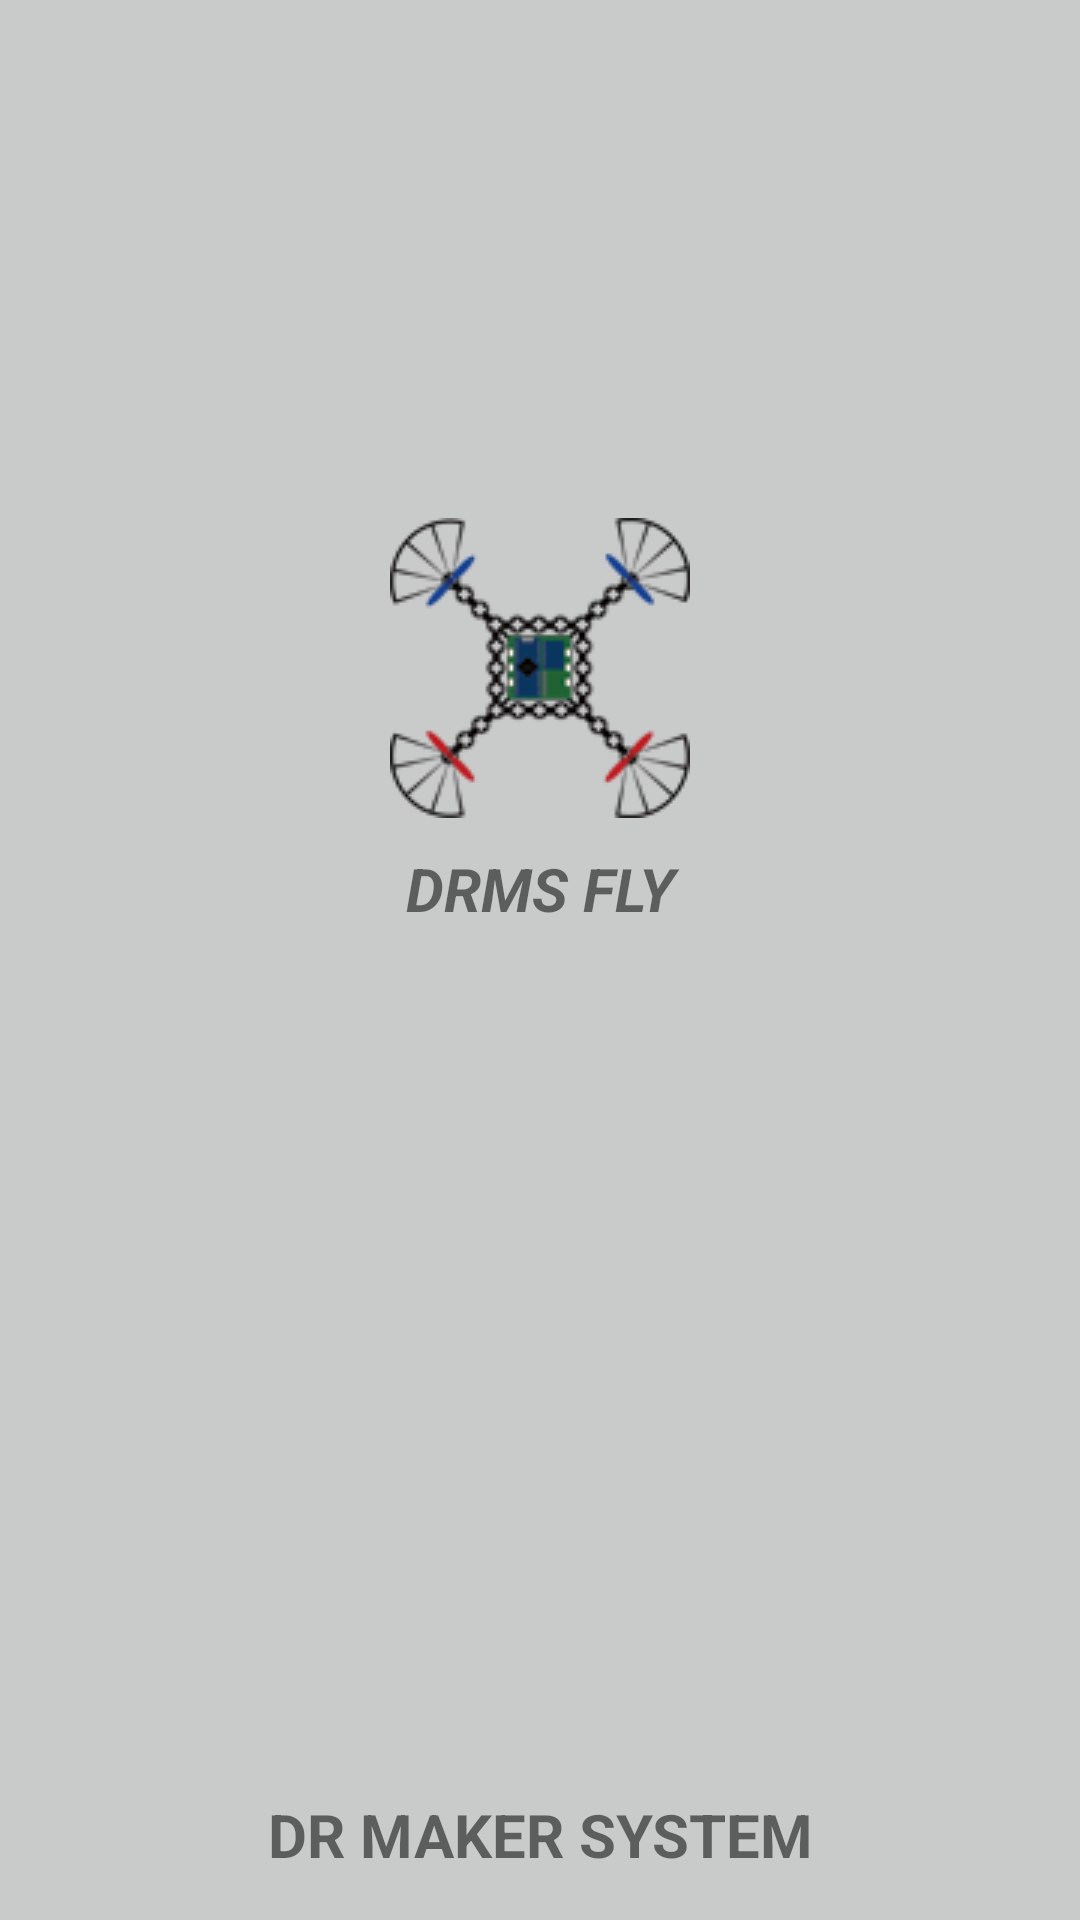

Point at icon controls on the screen. Image size 1080px×1920px, points as [x,y].
quad drone: [540,668]
